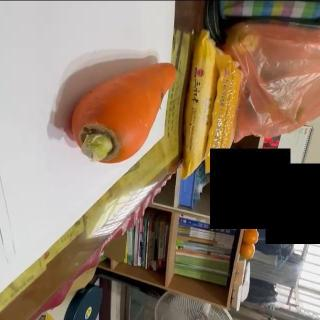carrot: (70, 63, 178, 163)
